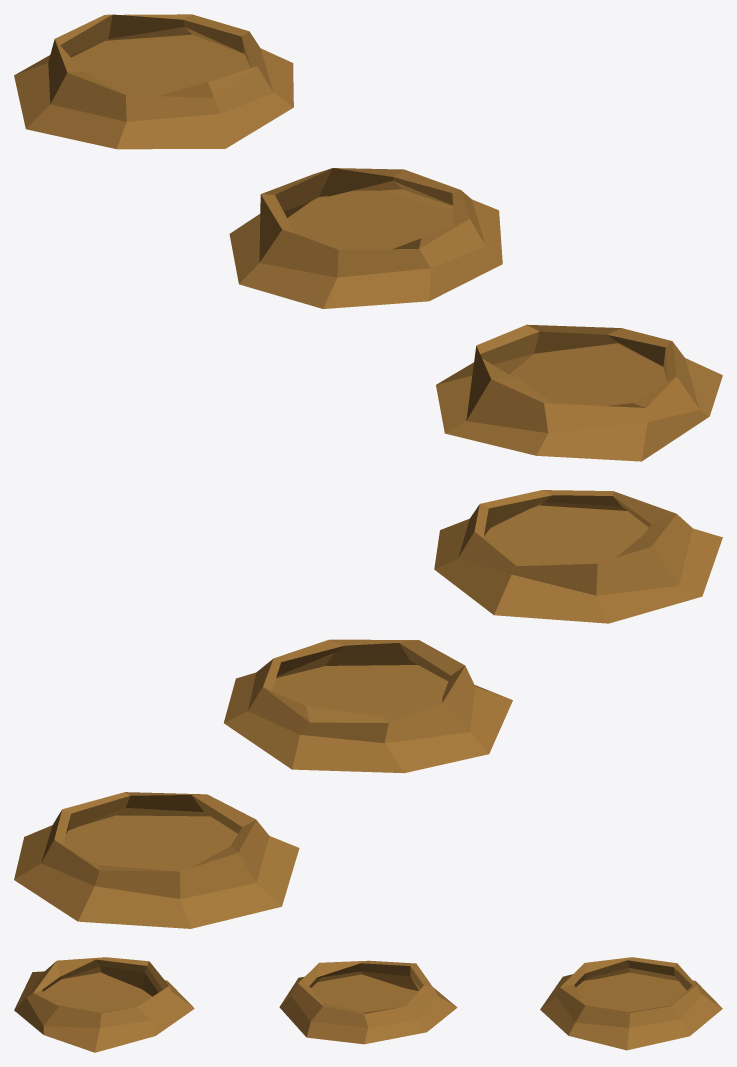
File: Holes.fbx
3 views of the same model, one above another, from view 1: azimuth 30°, elevation 25°; view 2: azimuth 150°, elevation 25°; view 3: azimuth 270°, elevation 25° (orthographic). The views are drawn at different scales.
Parts seen in each view (by area): view 1: Hole.002, Hole, Hole.001; view 2: Hole.002, Hole, Hole.001; view 3: Hole.001, Hole.002, Hole.
Boxes of the visible parts, bbox=[...] form: Hole.002: bbox=[14, 14, 293, 149]; Hole: bbox=[229, 168, 502, 308]; Hole.001: bbox=[436, 324, 722, 461]; Hole.002: bbox=[14, 792, 299, 928]; Hole: bbox=[224, 639, 512, 773]; Hole.001: bbox=[434, 490, 722, 623]; Hole.001: bbox=[14, 957, 194, 1052]; Hole.002: bbox=[540, 957, 722, 1050]; Hole: bbox=[279, 960, 457, 1044].
Size of the model in its own units: 297 by 53.21 by 1073.
